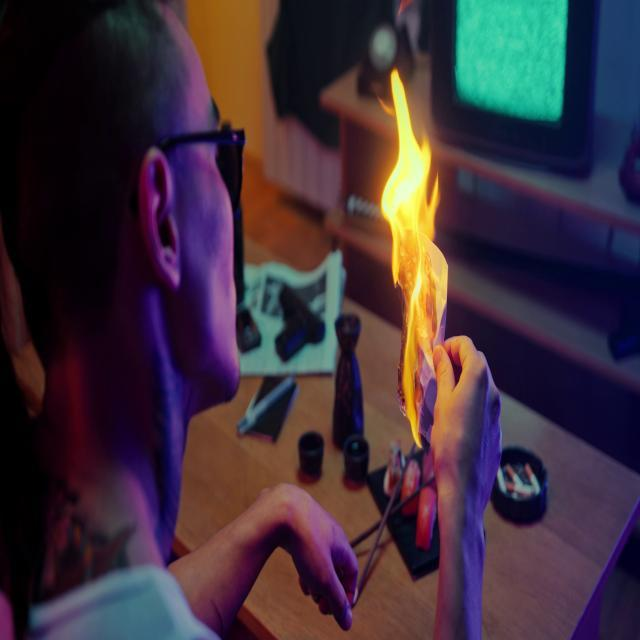Fire: (380, 61, 450, 457)
